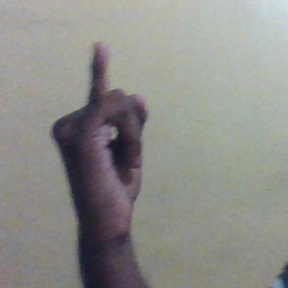I: (50, 39, 150, 194)
